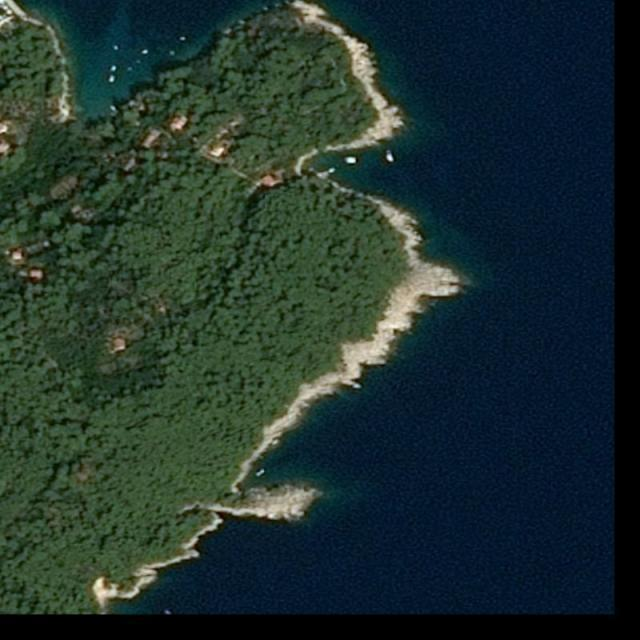ship: (385, 150, 394, 163), (112, 44, 119, 51), (108, 75, 115, 82), (179, 36, 186, 41), (142, 49, 148, 54), (110, 66, 116, 71), (110, 106, 115, 110), (170, 50, 174, 54)
